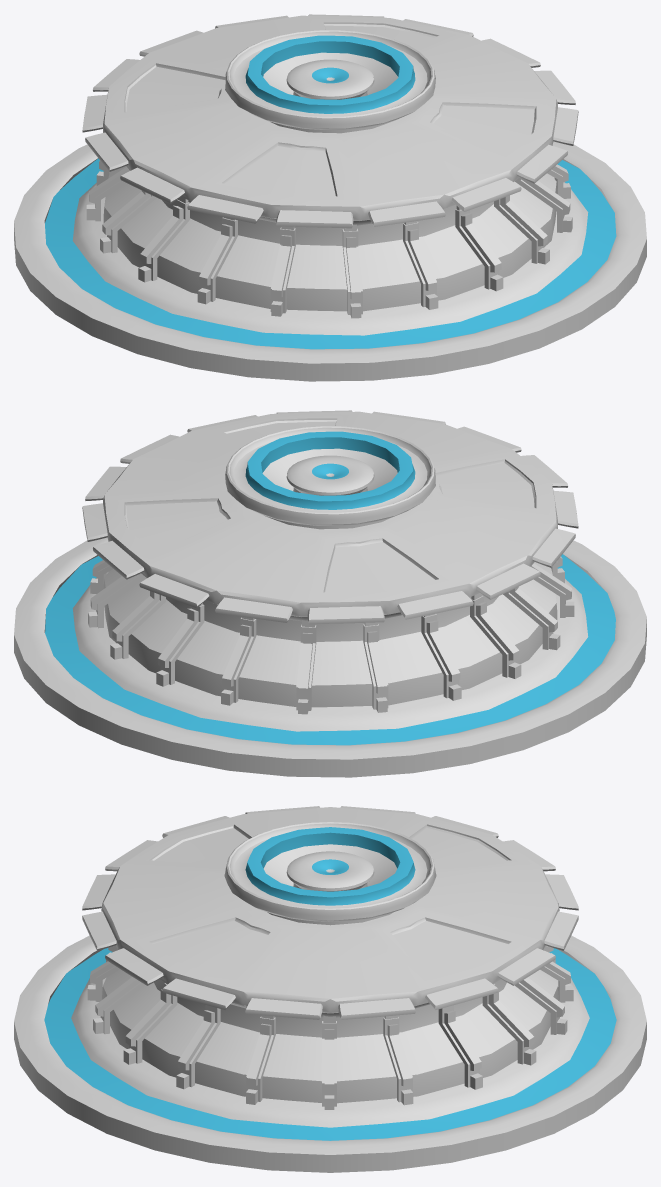
File: PodiumAltar.fbx
3 views of the same model, one above another, from view 1: azimuth 30°, elevation 25°; view 2: azimuth 150°, elevation 25°; view 3: azimuth 270°, elevation 25° (orthographic).
Visible parts, largest first — view 1: Cylinder.071, Cylinder.072; view 2: Cylinder.071, Cylinder.072; view 3: Cylinder.071, Cylinder.072.
Boxes of the visible parts, x1,y1,x2,y2 form: Cylinder.071: (14,14,646,381); Cylinder.072: (86,160,572,318); Cylinder.071: (14,410,646,777); Cylinder.072: (88,556,574,714); Cylinder.071: (14,806,646,1172); Cylinder.072: (87,945,573,1109).
Size of the model in its own units: 380 by 117 by 380.
